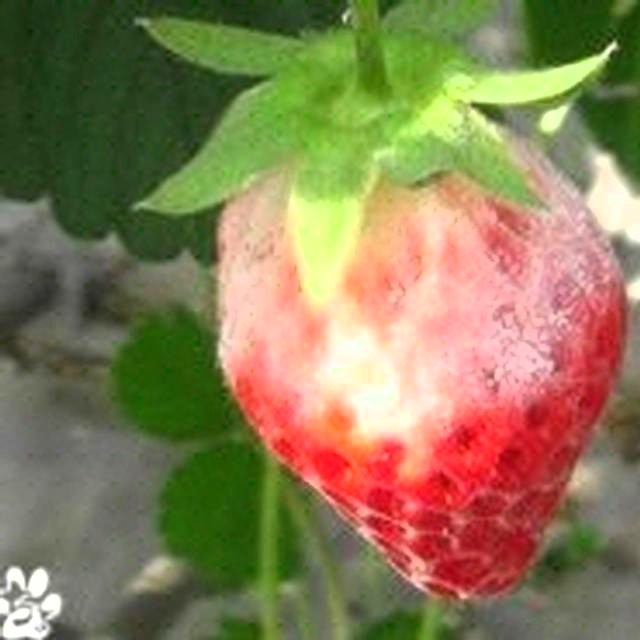Powdery Mildew Fruit: (211, 99, 629, 484)
